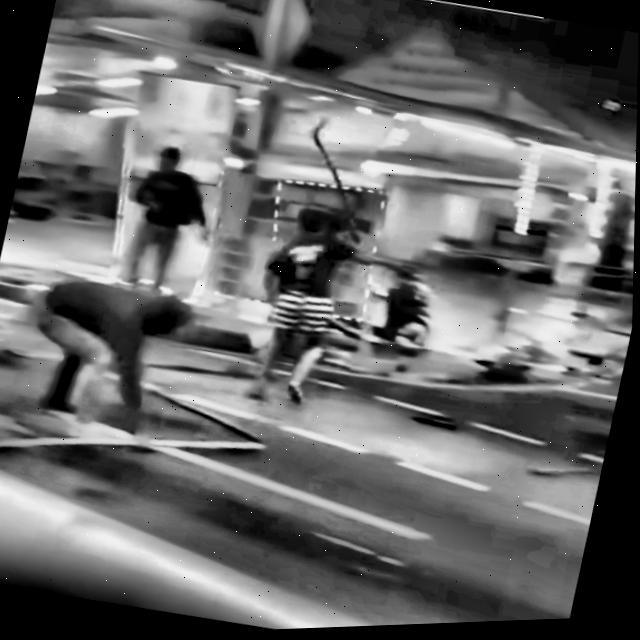robbery: (0, 60, 492, 516)
